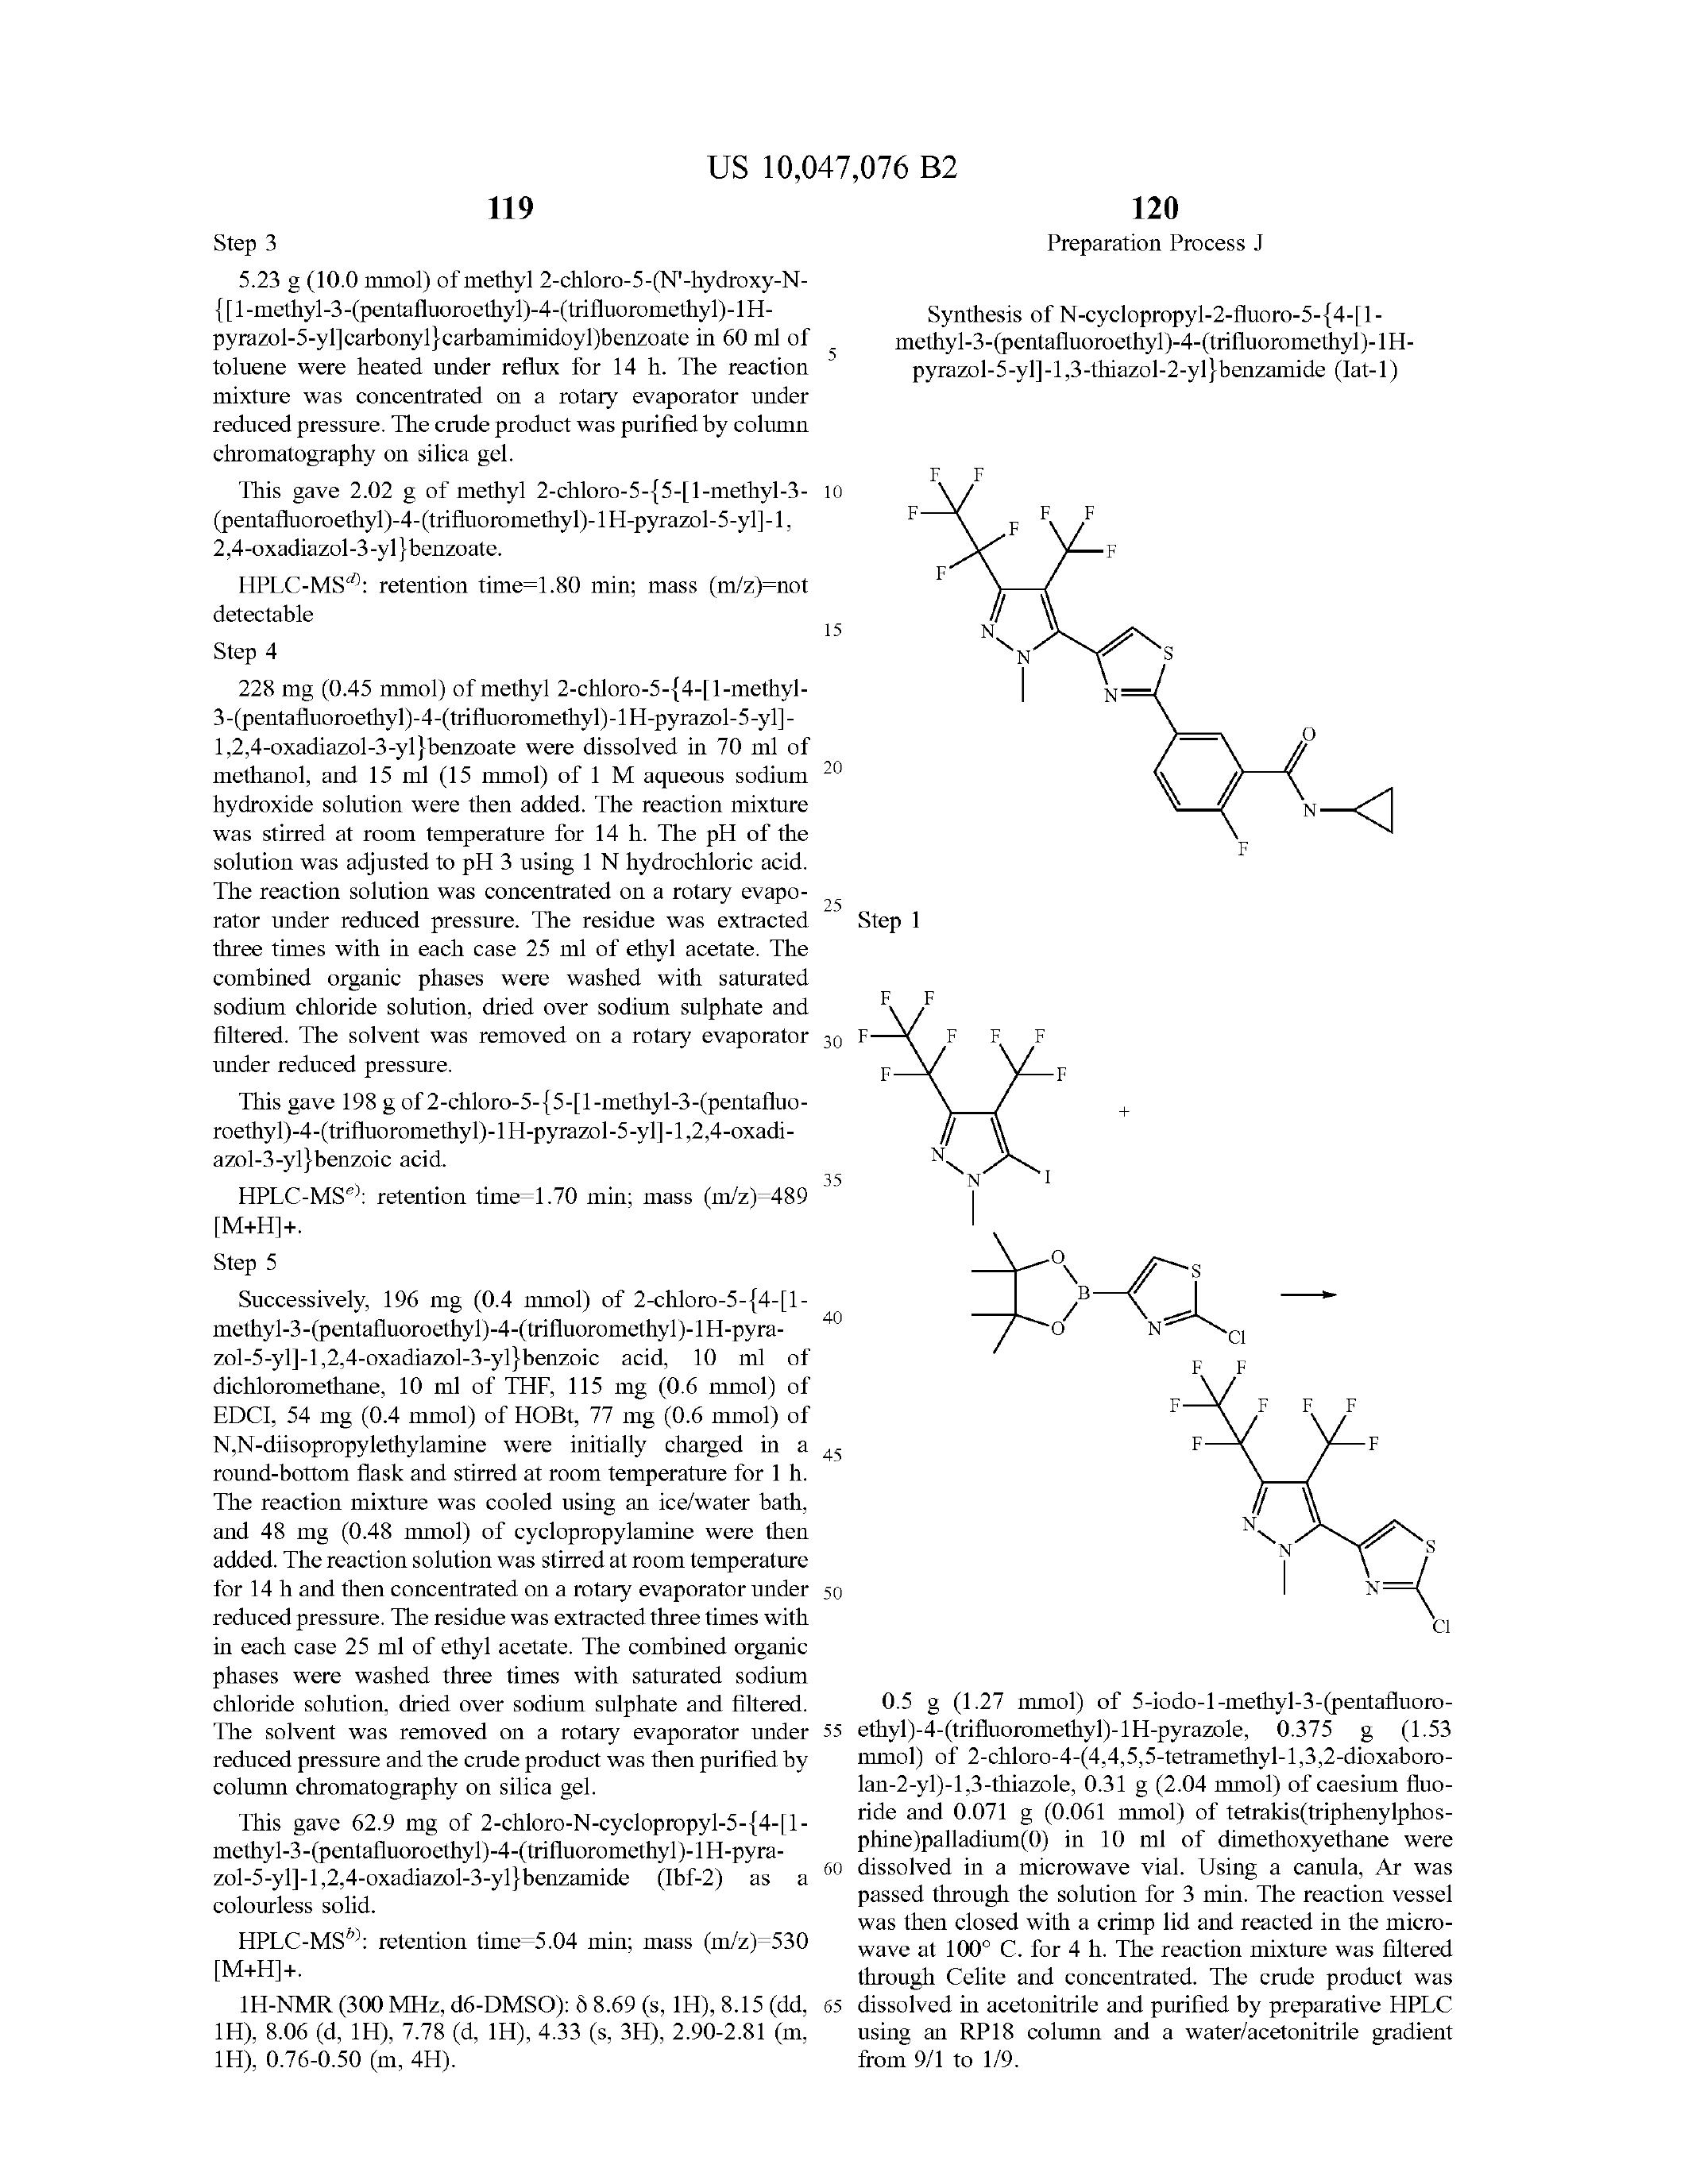relevant-structures: (913, 397, 1512, 927)
